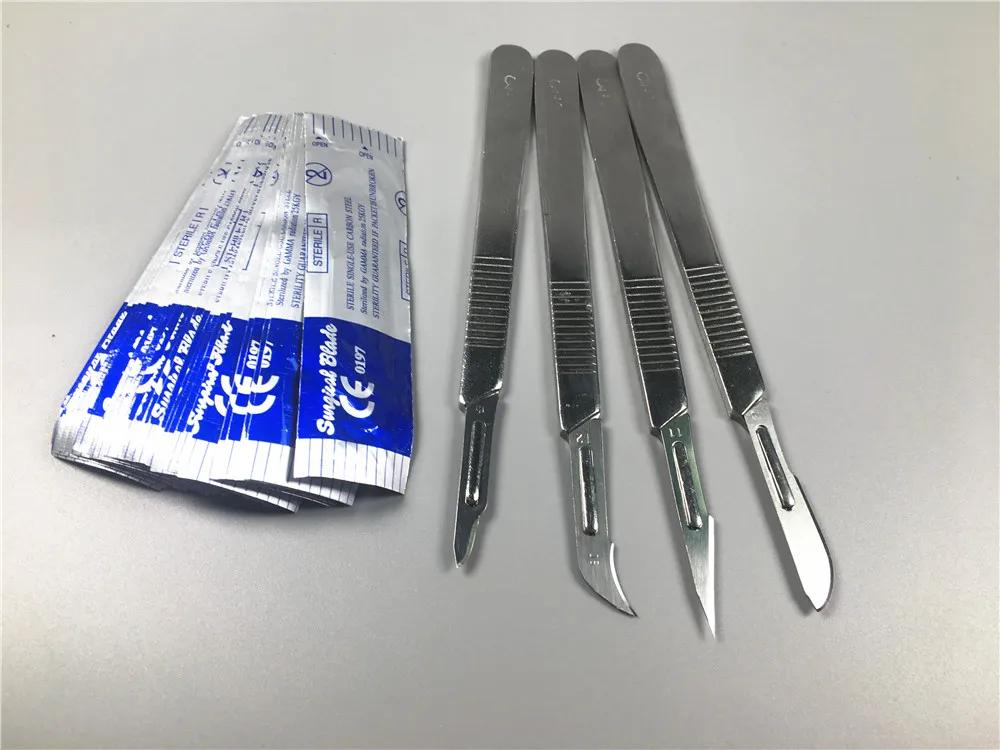Knife Blade: (733, 380, 847, 631), (636, 408, 750, 657), (432, 397, 520, 594), (557, 407, 637, 618)
Knife Handle: (616, 34, 780, 420), (573, 26, 714, 428), (446, 23, 522, 410), (544, 41, 599, 430)
